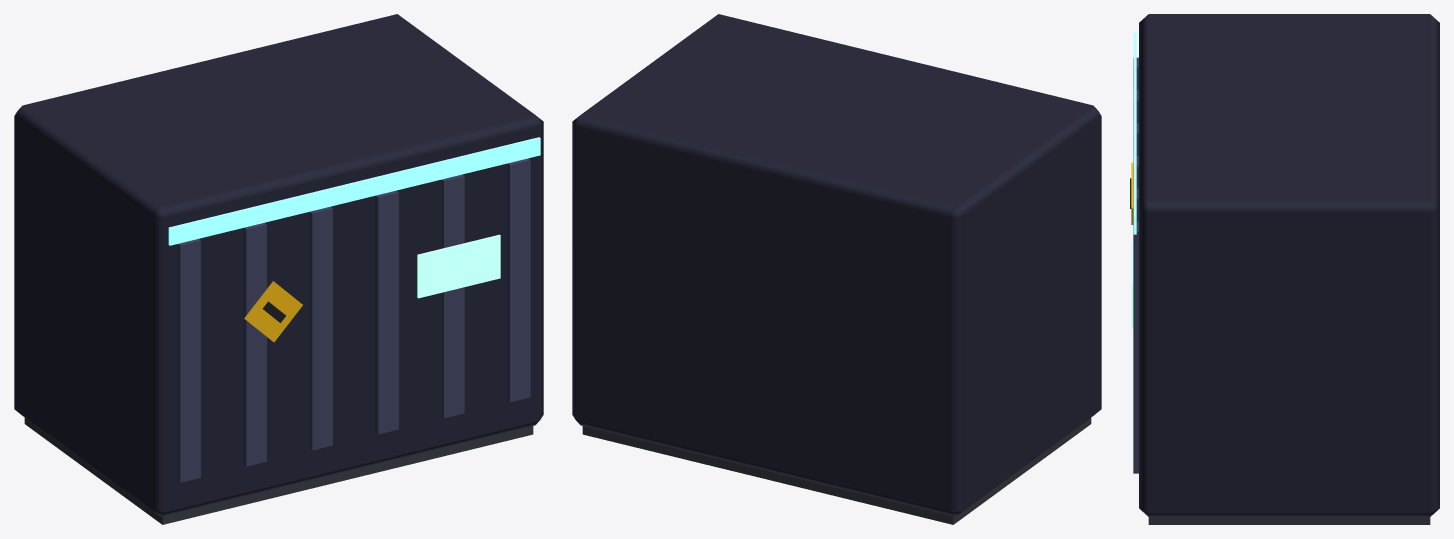
Rendered from station_intake_ausstattung_2_3.glb.
3 renders of one model, left to right at view 1: azimuth 30°, elevation 25°; view 2: azimuth 150°, elevation 25°; view 3: azimuth 270°, elevation 25°, orthographic.
Parts seen in each view (by area): view 1: station_intake_ausstattung_2_3; view 2: station_intake_ausstattung_2_3; view 3: station_intake_ausstattung_2_3.
Boxes of the visible parts, x1,y1,x2,y2 form: station_intake_ausstattung_2_3: (14,14,543,524); station_intake_ausstattung_2_3: (572,14,1101,524); station_intake_ausstattung_2_3: (1130,14,1439,524).
Size of the model in its own units: 0.95 by 0.74 by 0.6385.
